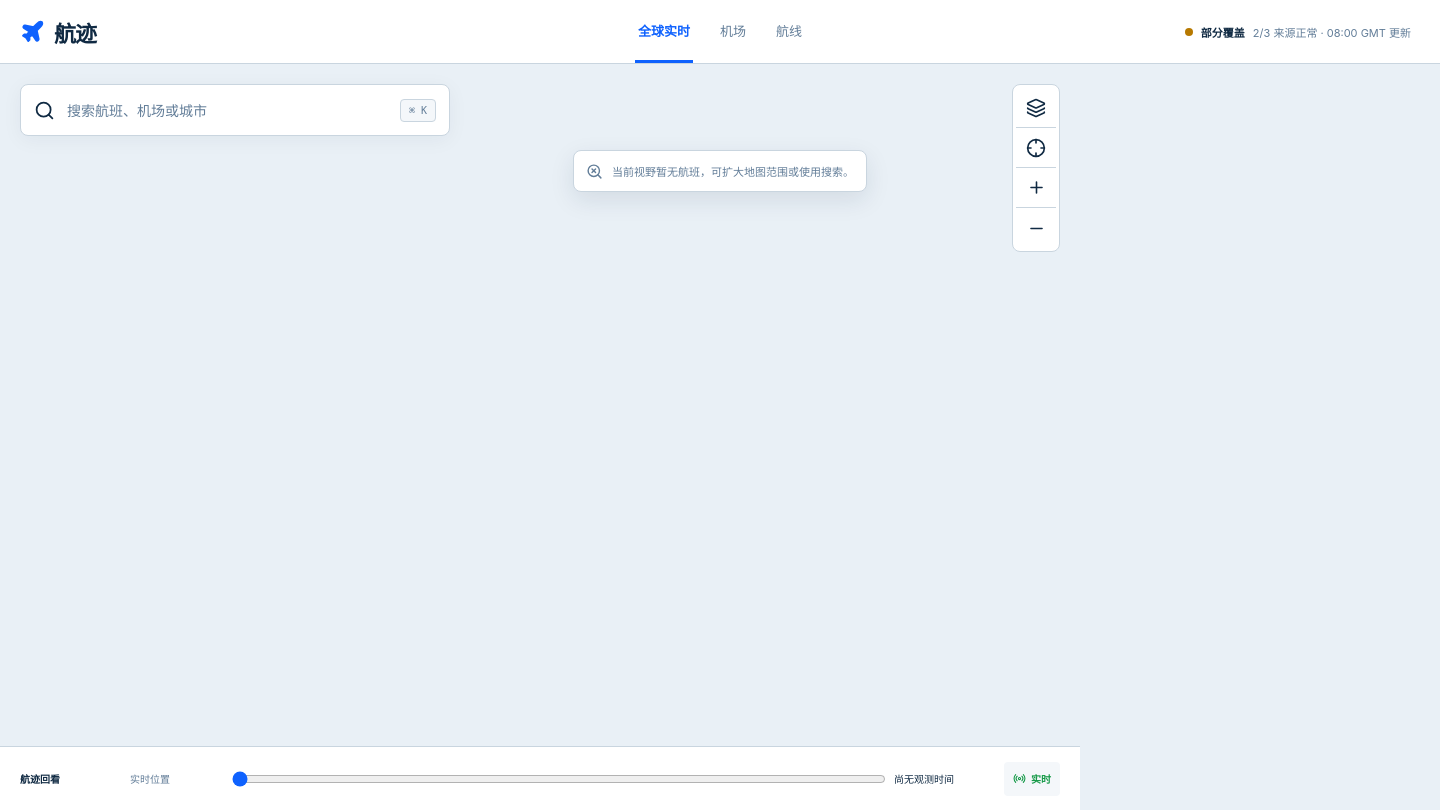
Test: AppShell › does not present an empty airport observation as a measured zero
Step 1. Click the tab "机场" → coordinates (733, 32), box [717, 0, 749, 63]
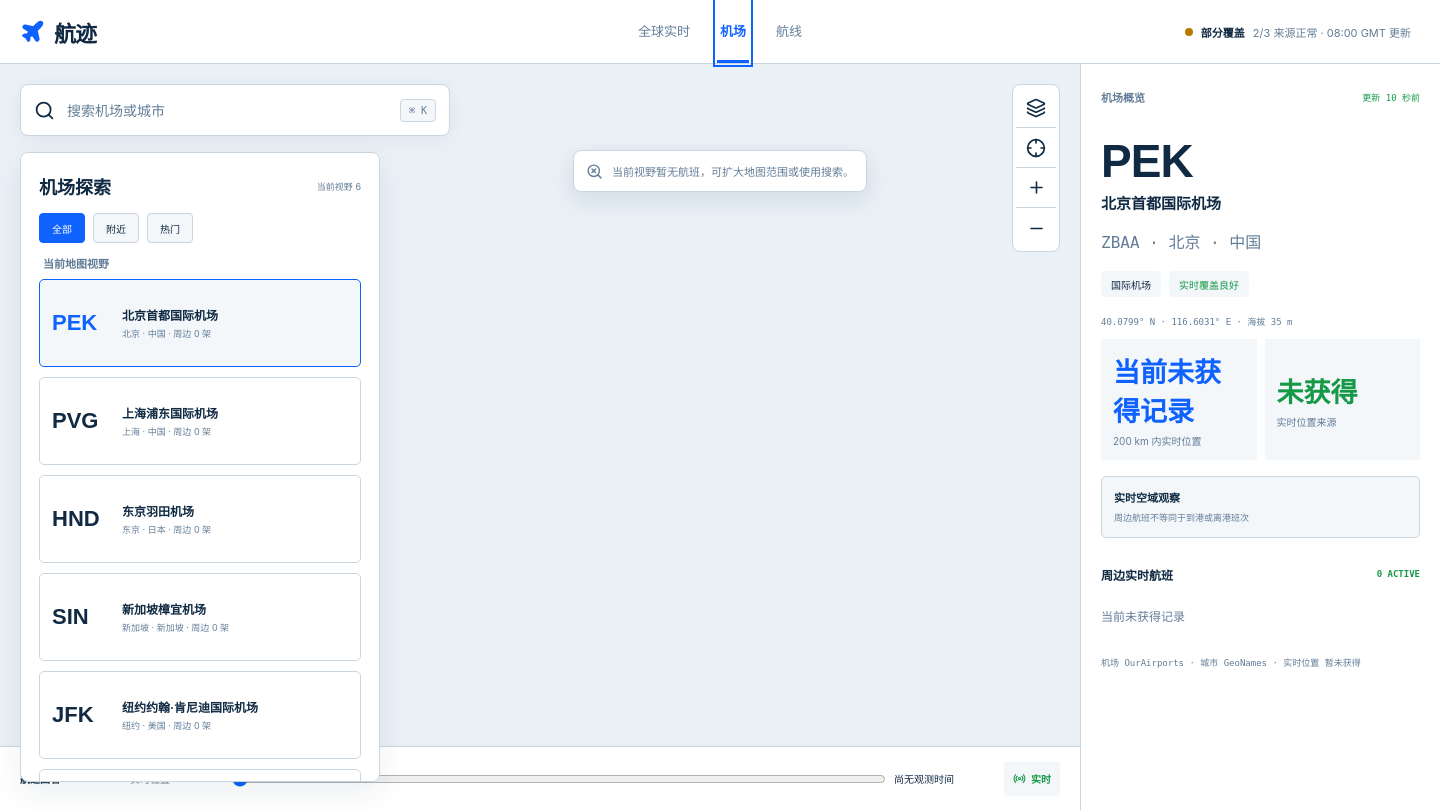
expect the text "当前未获得记录" next to "实时位置来源" is shown: met, box [1113, 358, 1221, 427]
